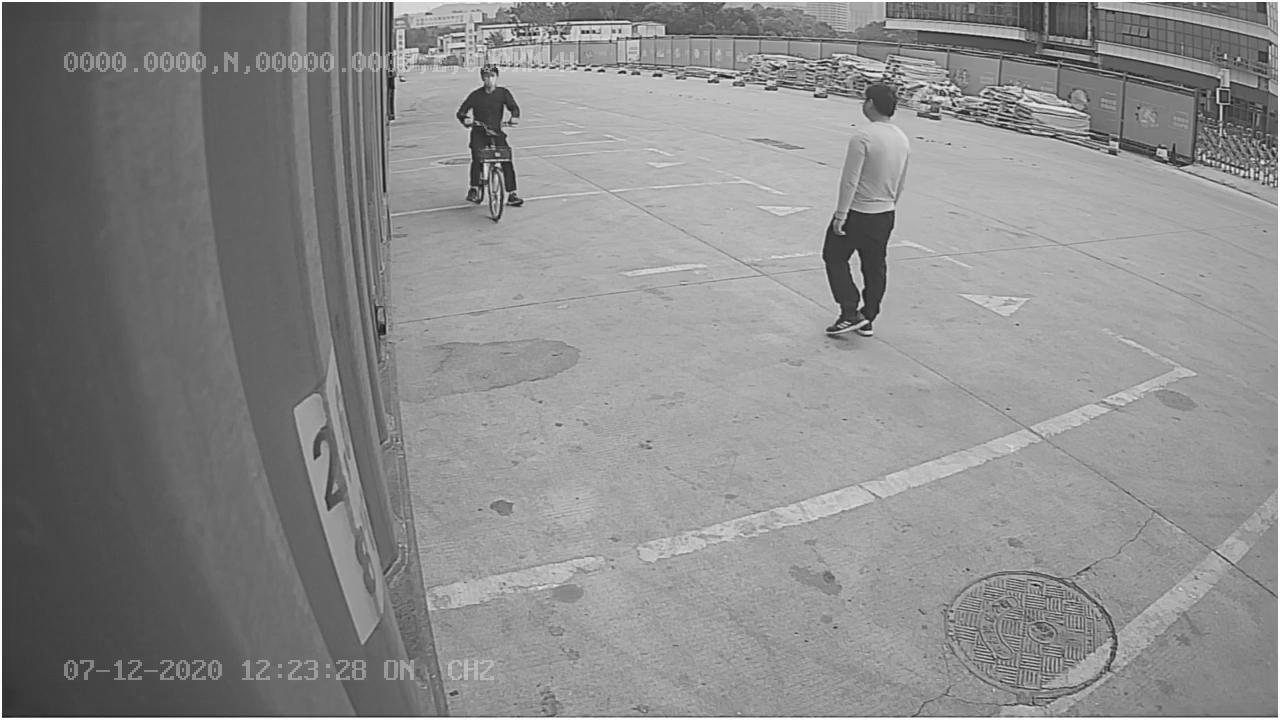person: (818, 81, 918, 345)
